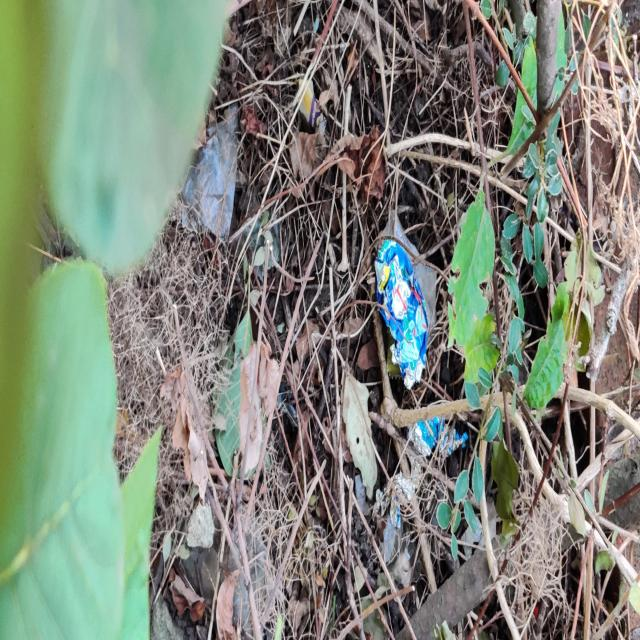litter: (369, 208, 444, 399)
